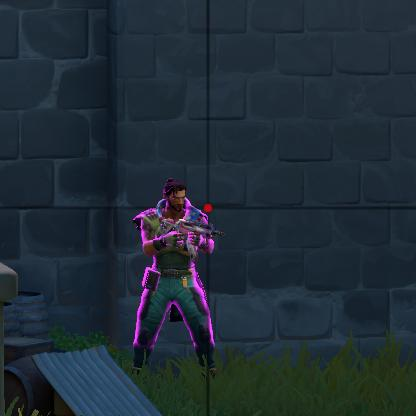enemyBody: (135, 215, 218, 314)
enemyHead: (165, 185, 192, 211)
